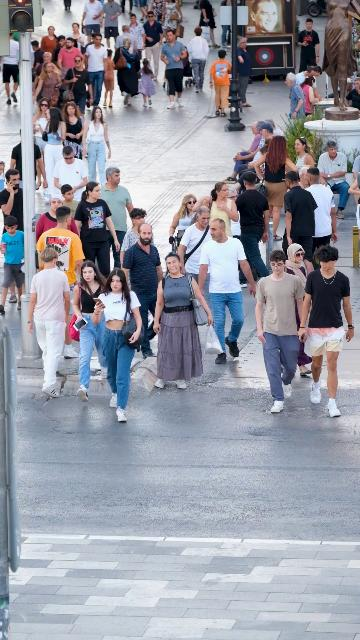person: (298, 245, 355, 418), (197, 219, 257, 365), (151, 252, 214, 389), (255, 249, 306, 414), (91, 268, 143, 422), (35, 206, 87, 359), (26, 247, 72, 399), (122, 222, 164, 359), (69, 260, 108, 402), (253, 135, 300, 242), (74, 181, 120, 277), (283, 243, 315, 378), (236, 171, 272, 287), (283, 171, 318, 276), (177, 206, 214, 305), (98, 167, 135, 259), (302, 167, 338, 251), (193, 181, 240, 238), (232, 123, 274, 185), (0, 215, 26, 315), (317, 139, 349, 220), (81, 106, 112, 184), (9, 129, 48, 190), (226, 119, 263, 183), (35, 193, 80, 244), (41, 107, 67, 195), (62, 55, 94, 123), (160, 29, 187, 109), (2, 33, 32, 104), (53, 146, 88, 203), (84, 33, 108, 107), (113, 38, 139, 106), (120, 208, 148, 269), (0, 169, 26, 234), (186, 25, 210, 95), (208, 49, 232, 117), (169, 194, 199, 246), (61, 100, 85, 161), (144, 11, 164, 82), (33, 62, 61, 108), (296, 18, 320, 71), (236, 36, 253, 107), (32, 98, 53, 154), (127, 13, 146, 70), (100, 0, 122, 49), (285, 72, 306, 121), (81, 0, 103, 45), (198, 0, 219, 47), (33, 52, 62, 86), (138, 58, 156, 108), (160, 0, 183, 38), (301, 76, 322, 116), (102, 49, 116, 108), (57, 38, 82, 71), (292, 136, 316, 168), (69, 23, 88, 59), (40, 25, 60, 58), (294, 65, 322, 88), (30, 40, 44, 86), (61, 184, 80, 217), (219, 0, 232, 48), (257, 118, 285, 139), (343, 77, 360, 110), (115, 25, 133, 54), (52, 35, 68, 67), (146, 0, 164, 25), (131, 0, 148, 22), (224, 188, 239, 212), (298, 166, 310, 189), (119, 0, 132, 16), (0, 161, 6, 195)
